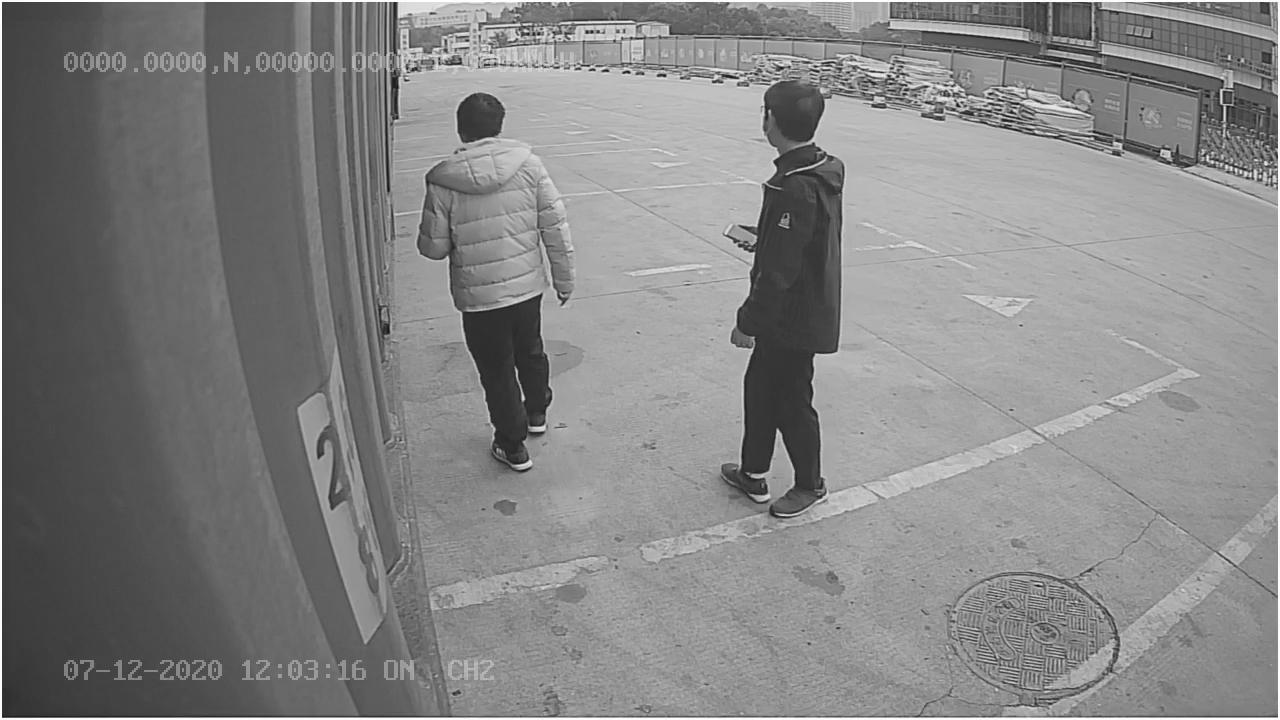person: (417, 91, 578, 476), (715, 78, 847, 523)
